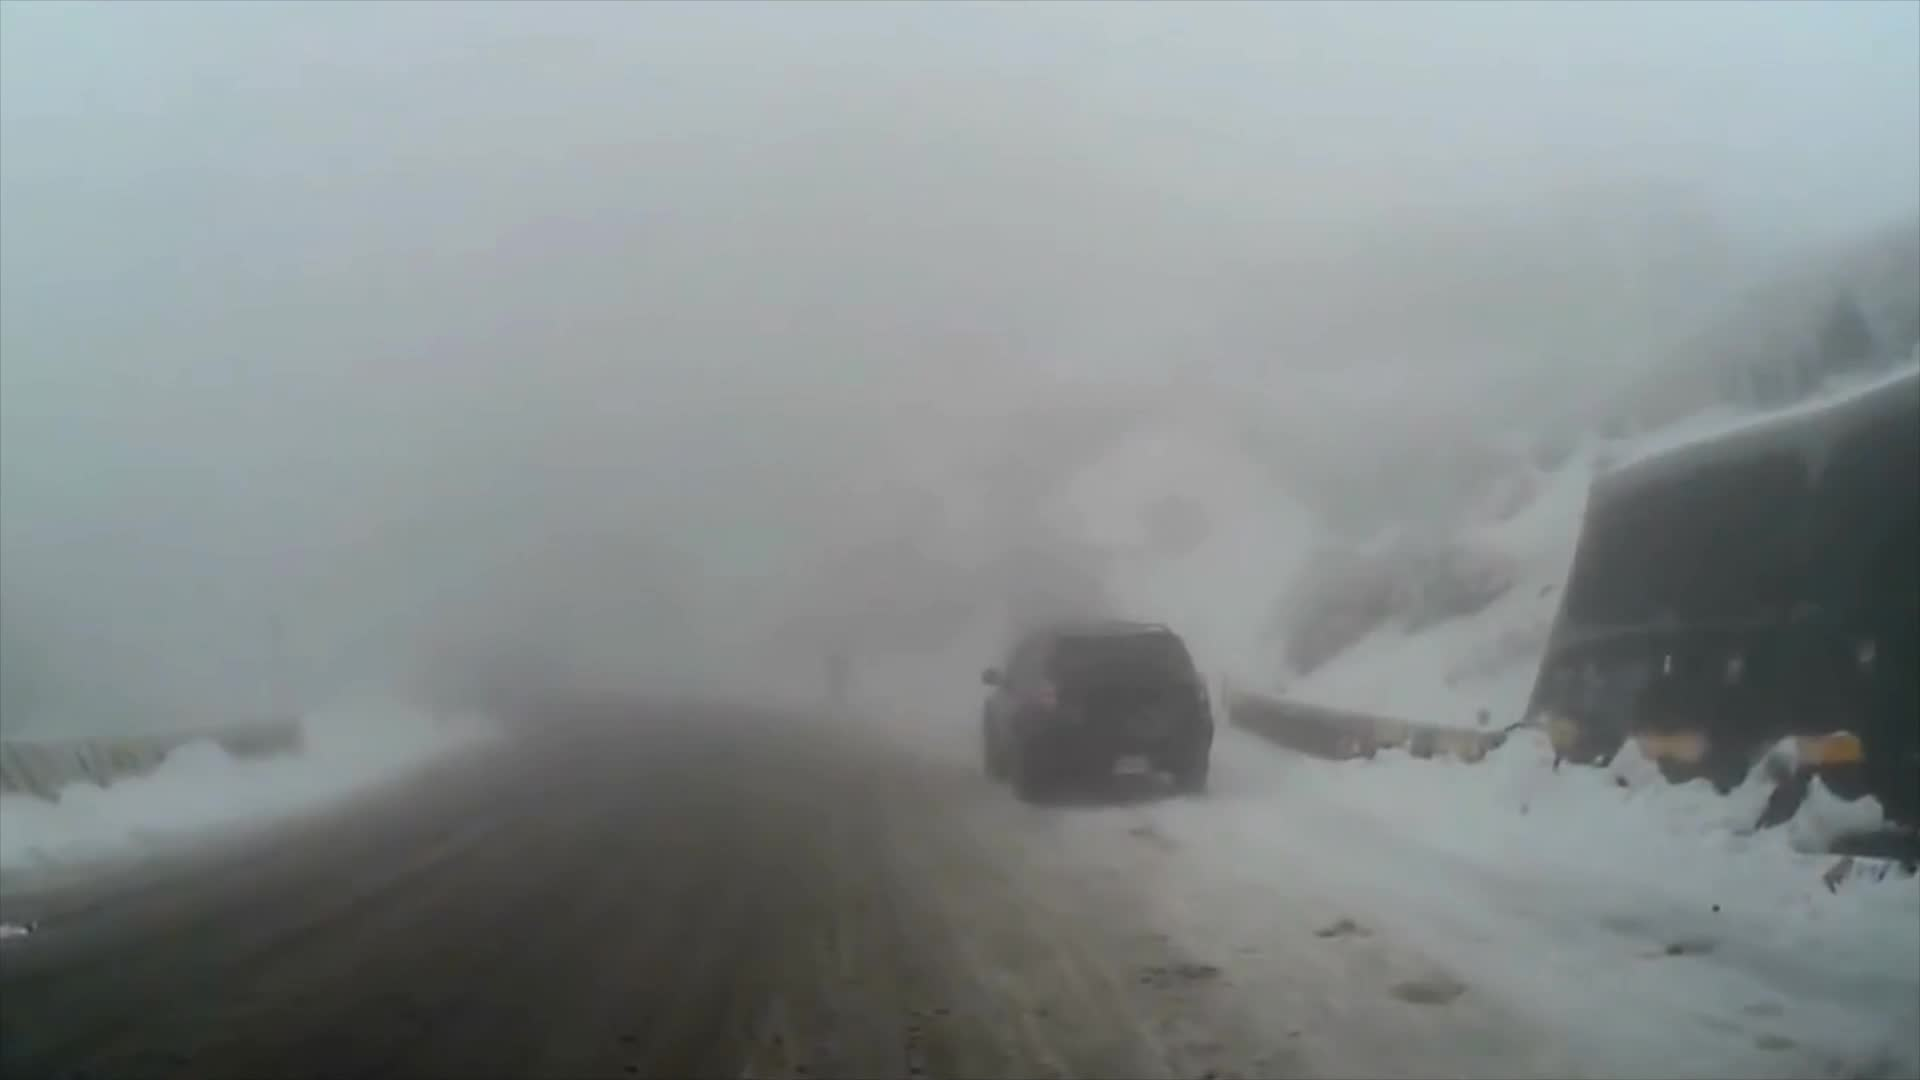vehicle: (975, 613, 1215, 802)
